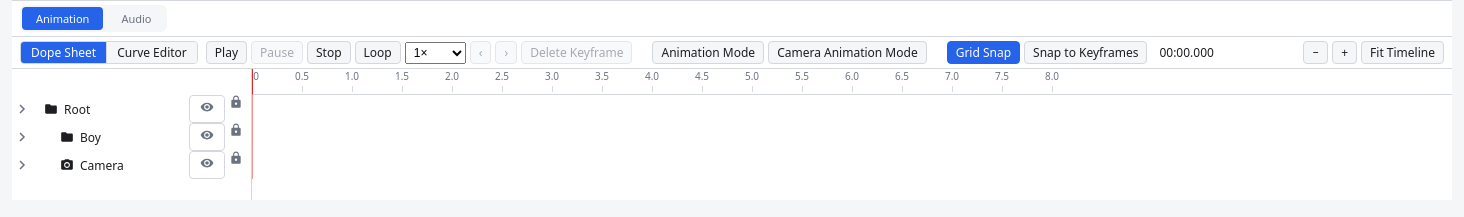
Scenario: TimelinePanel property subtracks › expands the camera into five subtracks without Rotation
The width and height of the screenshot is (1464, 217).
Expected: the button "Camera" is shown, [32,151,251,179]
Click the button named "Toggle subtracks of Camera" at {"x": 22, "y": 165}, box [12,151,32,179]
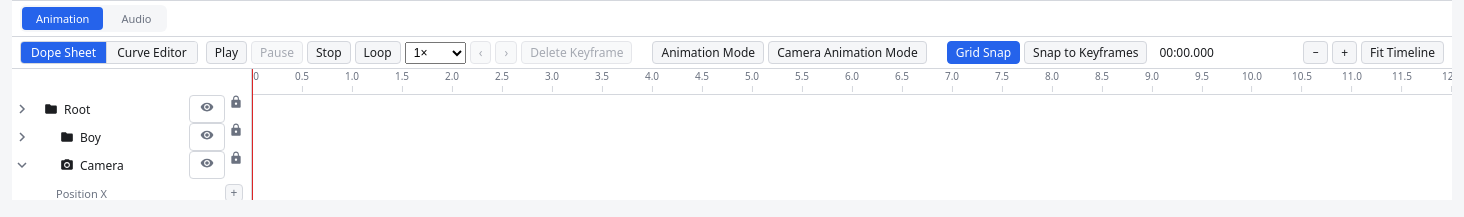
Result: the text "Position X" is shown at [56,186,107,200]
